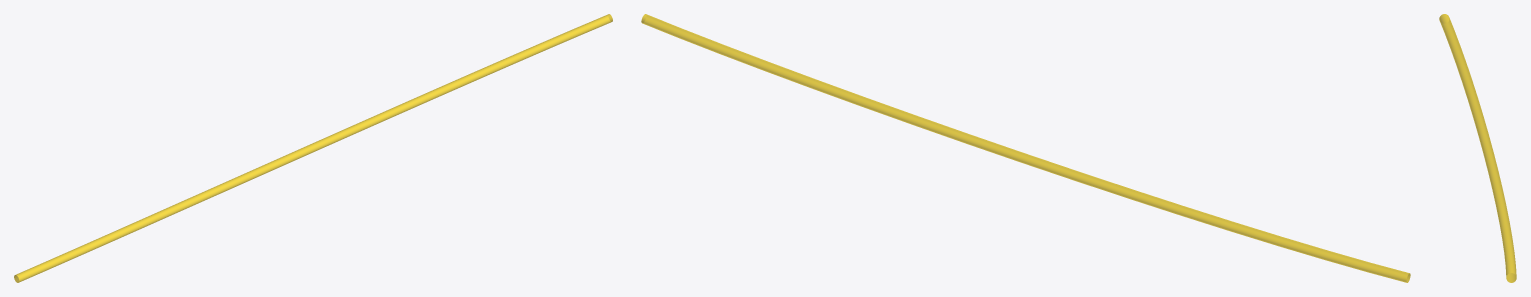
File: Event_27938768_track_75.fbx
3 views of the same model, side by side, from view 1: azimuth 30°, elevation 25°; view 2: azimuth 150°, elevation 25°; view 3: azimuth 270°, elevation 25° (orthographic). The views are drawn at different scales.
Parts seen in each view (by area): view 1: Model; view 2: Model; view 3: Model.
Part boxes in pixels (x1=…): Model: x1=14, y1=14, x2=612, y2=282; Model: x1=641, y1=14, x2=1410, y2=282; Model: x1=1439, y1=14, x2=1516, y2=282.
Size of the model in its own units: 3.35 by 0.4975 by 0.2987.
